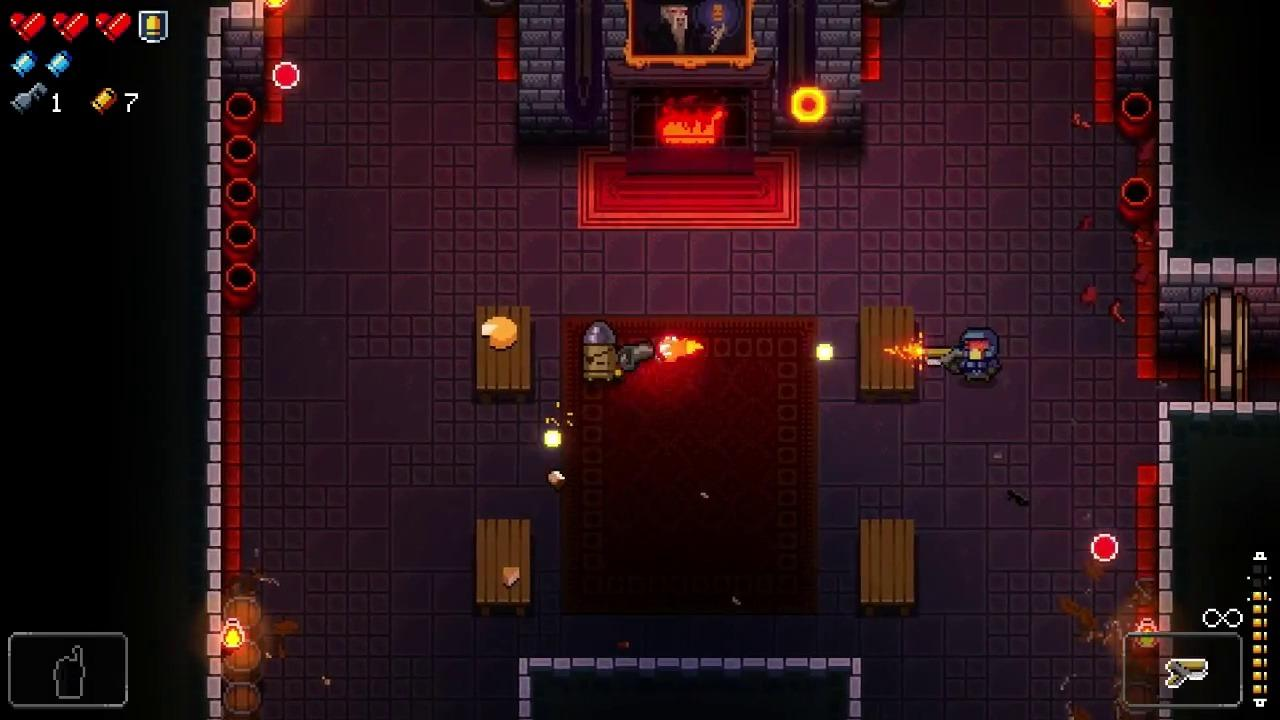hollow_bullet: (271, 60, 303, 90), (1090, 533, 1119, 563)
locked_door: (1201, 286, 1251, 401)
player: (959, 328, 1001, 386)
table: (473, 306, 530, 405), (860, 518, 917, 617), (478, 521, 532, 617), (862, 304, 914, 401)
veteran_bullet_kin: (583, 322, 618, 383)
